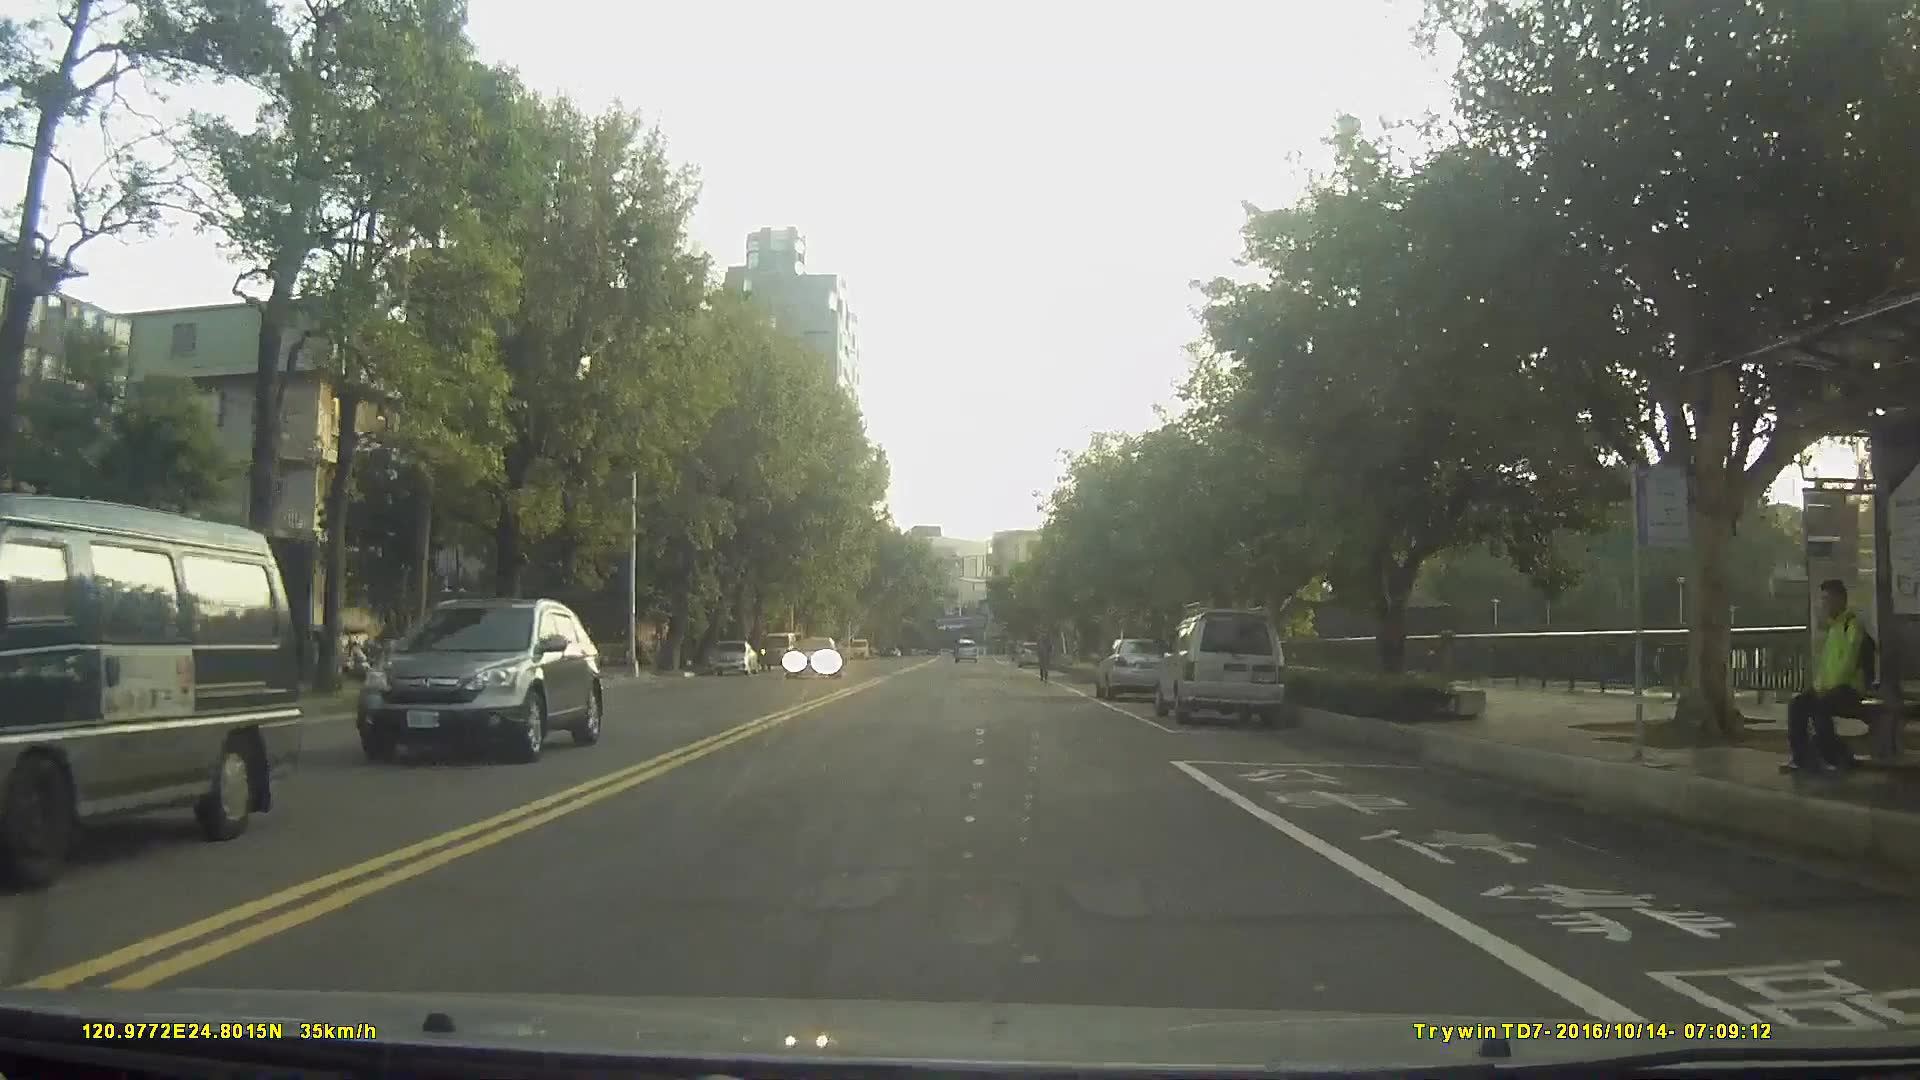pedestrian: (1779, 573, 1891, 792)
rider: (1035, 630, 1055, 687)
vehicle: (0, 490, 305, 885), (353, 594, 606, 764), (1153, 609, 1288, 727), (1096, 634, 1173, 700), (781, 632, 841, 680), (705, 636, 756, 675), (758, 629, 797, 666), (1016, 639, 1044, 668), (952, 635, 979, 661)
